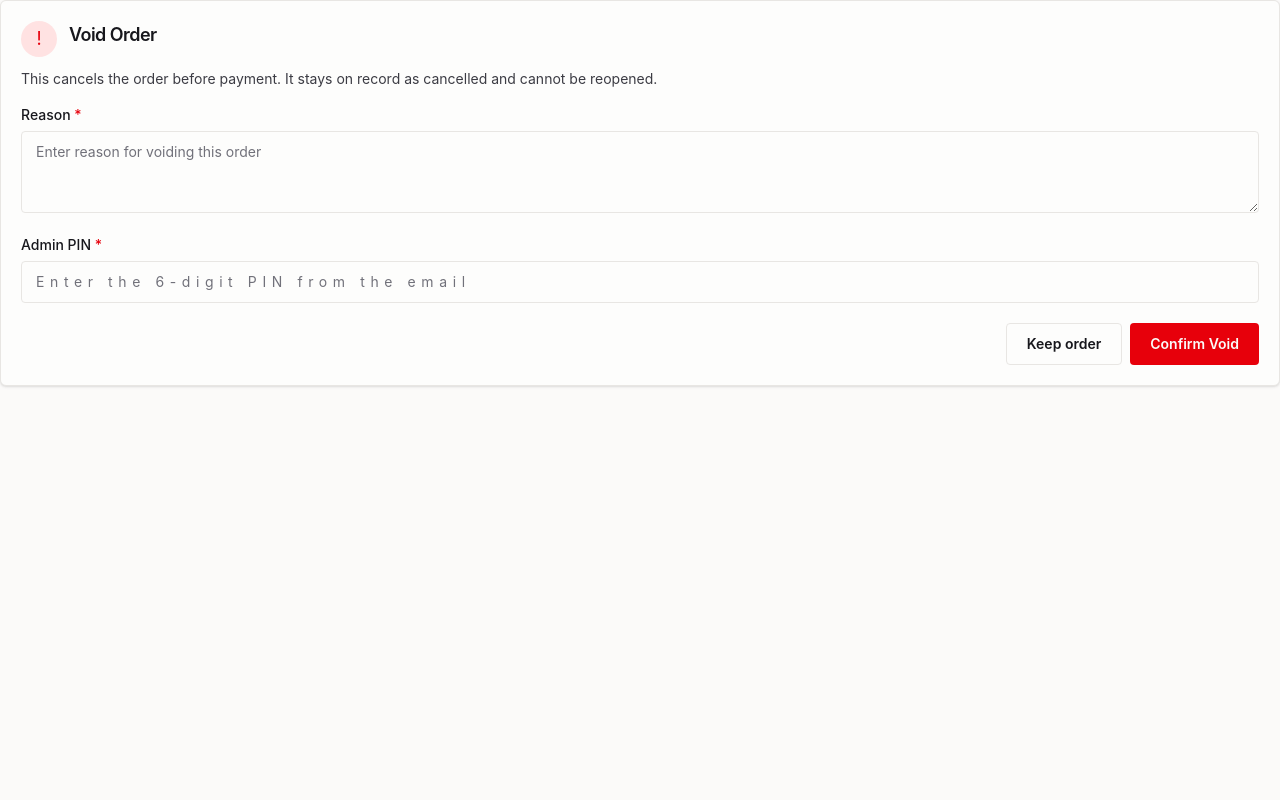
Test case: VoidDialog › Requirement 21.2: PIN required after free void window › should show error when PIN is empty and required
The width and height of the screenshot is (1280, 800).
Type "Some reason" into the text box with test id "void-reason-input" at (640, 172), box [21,131,1259,213]
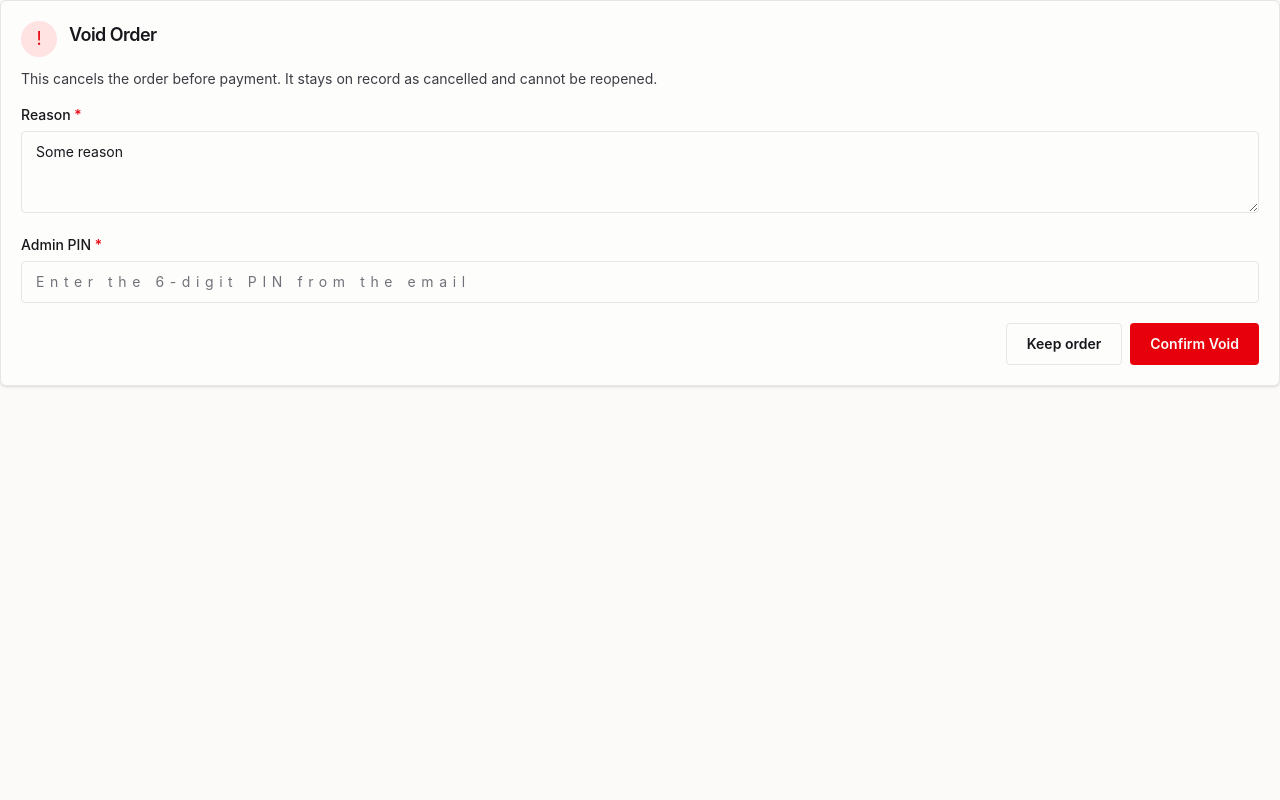
Click the button with test id "void-confirm-btn" at (1195, 344), box [1130,323,1259,365]
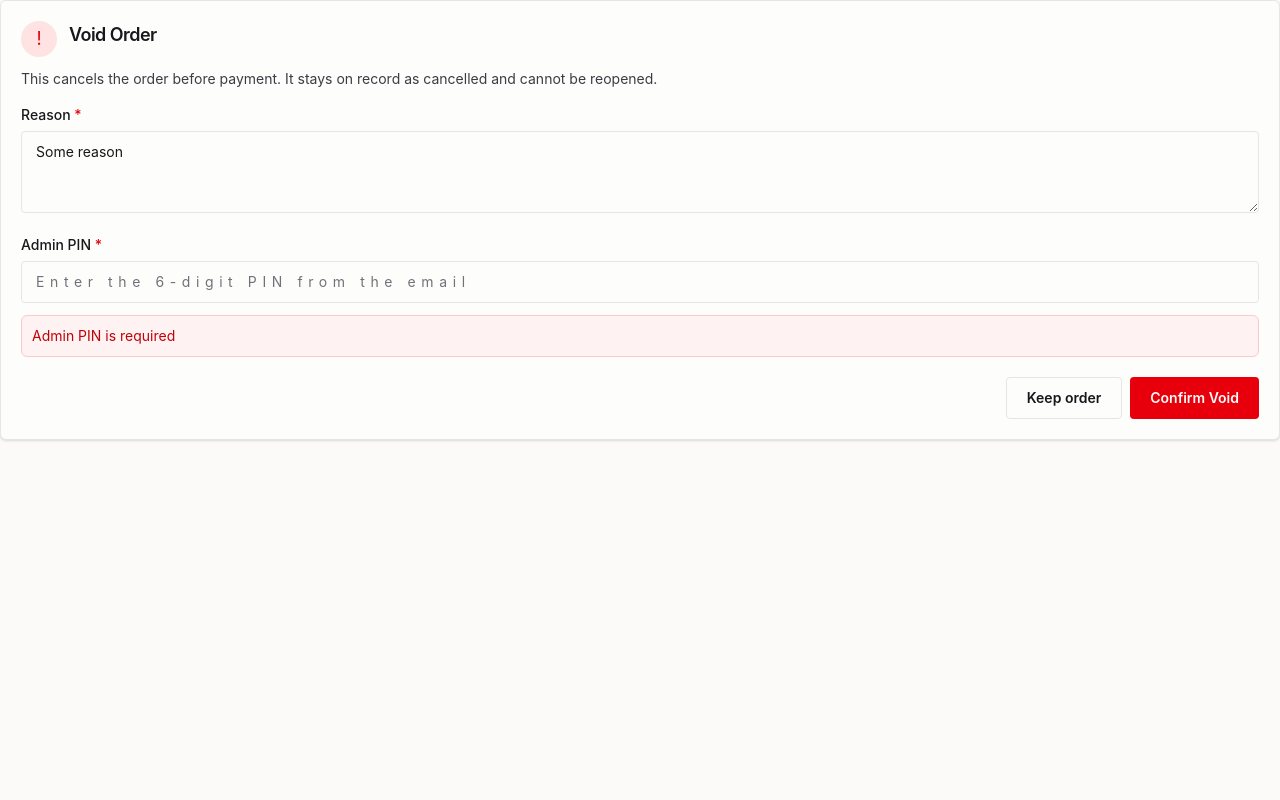
expect the message with test id "void-error" reads "Admin PIN is required": met, box [32,327,175,344]
